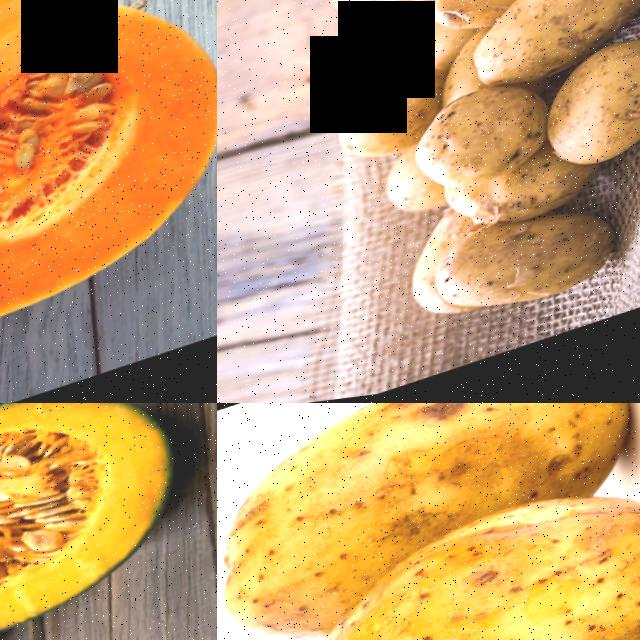potato: (217, 403, 640, 609), (251, 452, 640, 640), (435, 200, 640, 344), (408, 80, 568, 215), (461, 0, 640, 101), (536, 39, 640, 194), (333, 70, 451, 179), (320, 0, 467, 47)
pumpkin: (0, 0, 217, 403), (0, 403, 217, 640)
